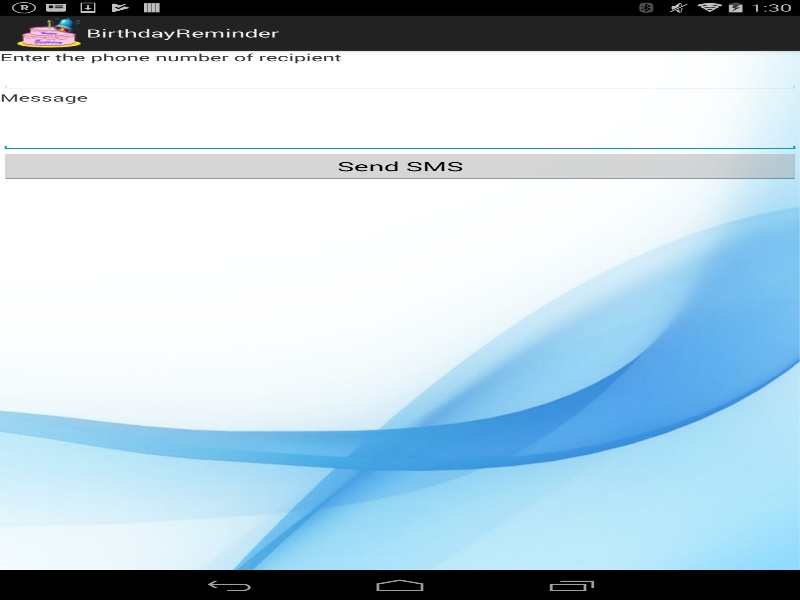Button: (0, 151, 800, 181)
Input: (0, 104, 800, 151), (0, 64, 800, 90)
